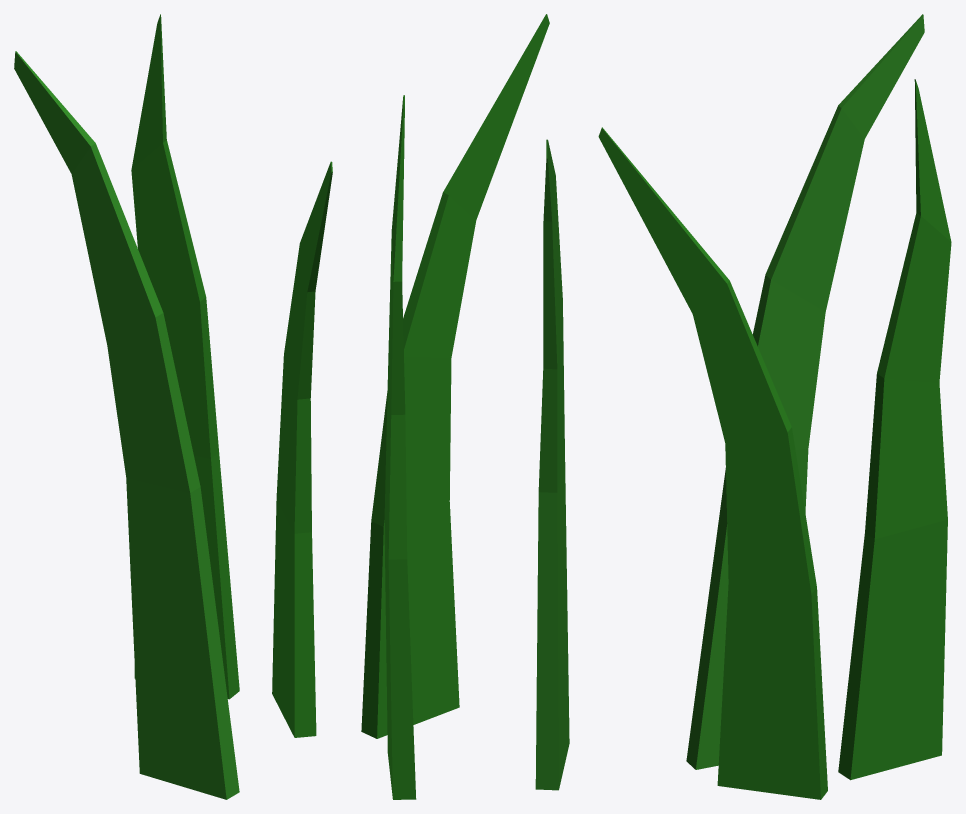
The model's file is ForestGrass(5).fbx.
3 renders of one model, left to right at view 1: azimuth 30°, elevation 25°; view 2: azimuth 150°, elevation 25°; view 3: azimuth 270°, elevation 25°, orthographic. The views are drawn at different scales.
Visible parts, largest first — view 1: Grass(5); view 2: Grass(5); view 3: Grass(5).
Part boxes in pixels (x1=…): Grass(5): x1=14, y1=14, x2=332, y2=799; Grass(5): x1=361, y1=14, x2=569, y2=799; Grass(5): x1=598, y1=14, x2=951, y2=799.
Size of the model in its own units: 0.2337 by 0.6741 by 0.3059.
